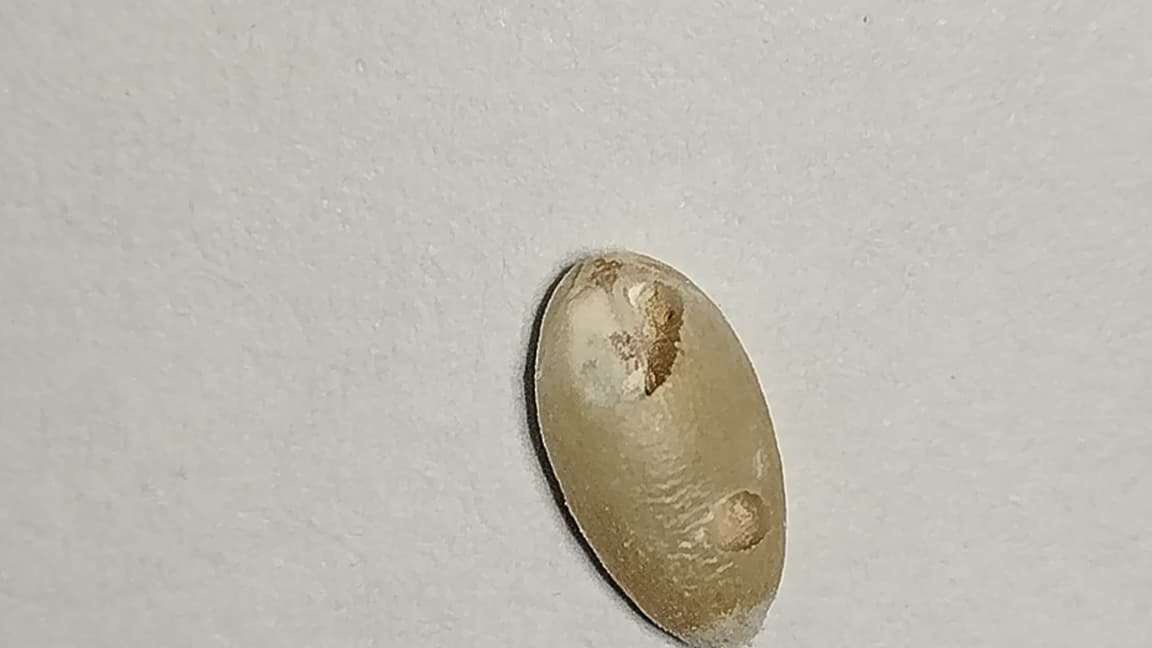damage: (525, 252, 786, 644)
insectdamage: (526, 254, 709, 424), (710, 490, 770, 550)
